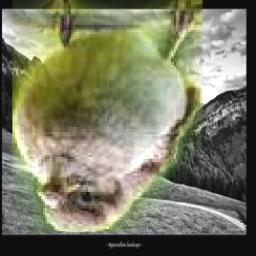Sparrow: (13, 0, 203, 232)
